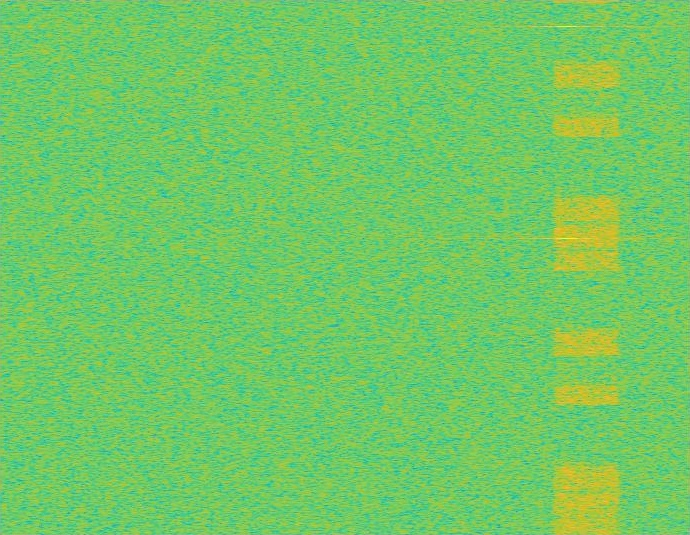LTE: (552, 0, 621, 534)
Radar: (561, 0, 574, 534)
